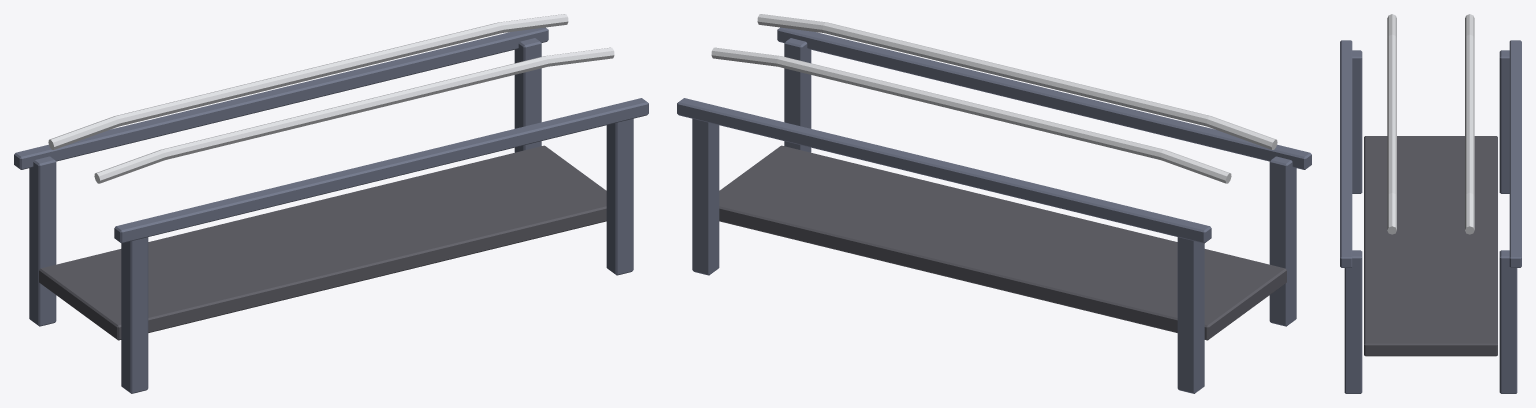
Rendered from bowling-alley-and-pool-hall-ball-rack-empty-c8d74118__33847.glb.
3 renders of one model, left to right at view 1: azimuth 30°, elevation 25°; view 2: azimuth 150°, elevation 25°; view 3: azimuth 270°, elevation 25°, orthographic. The views are drawn at different scales.
Parts seen in each view (by area): view 1: ball-rack-empty; view 2: ball-rack-empty; view 3: ball-rack-empty.
Boxes of the visible parts, box(x1,y1,x2,y2) form: ball-rack-empty: box(14, 14, 648, 393); ball-rack-empty: box(677, 14, 1311, 393); ball-rack-empty: box(1340, 14, 1521, 393).
Bounding box in the file's own units: 1.46 × 0.5541 × 0.5149.
